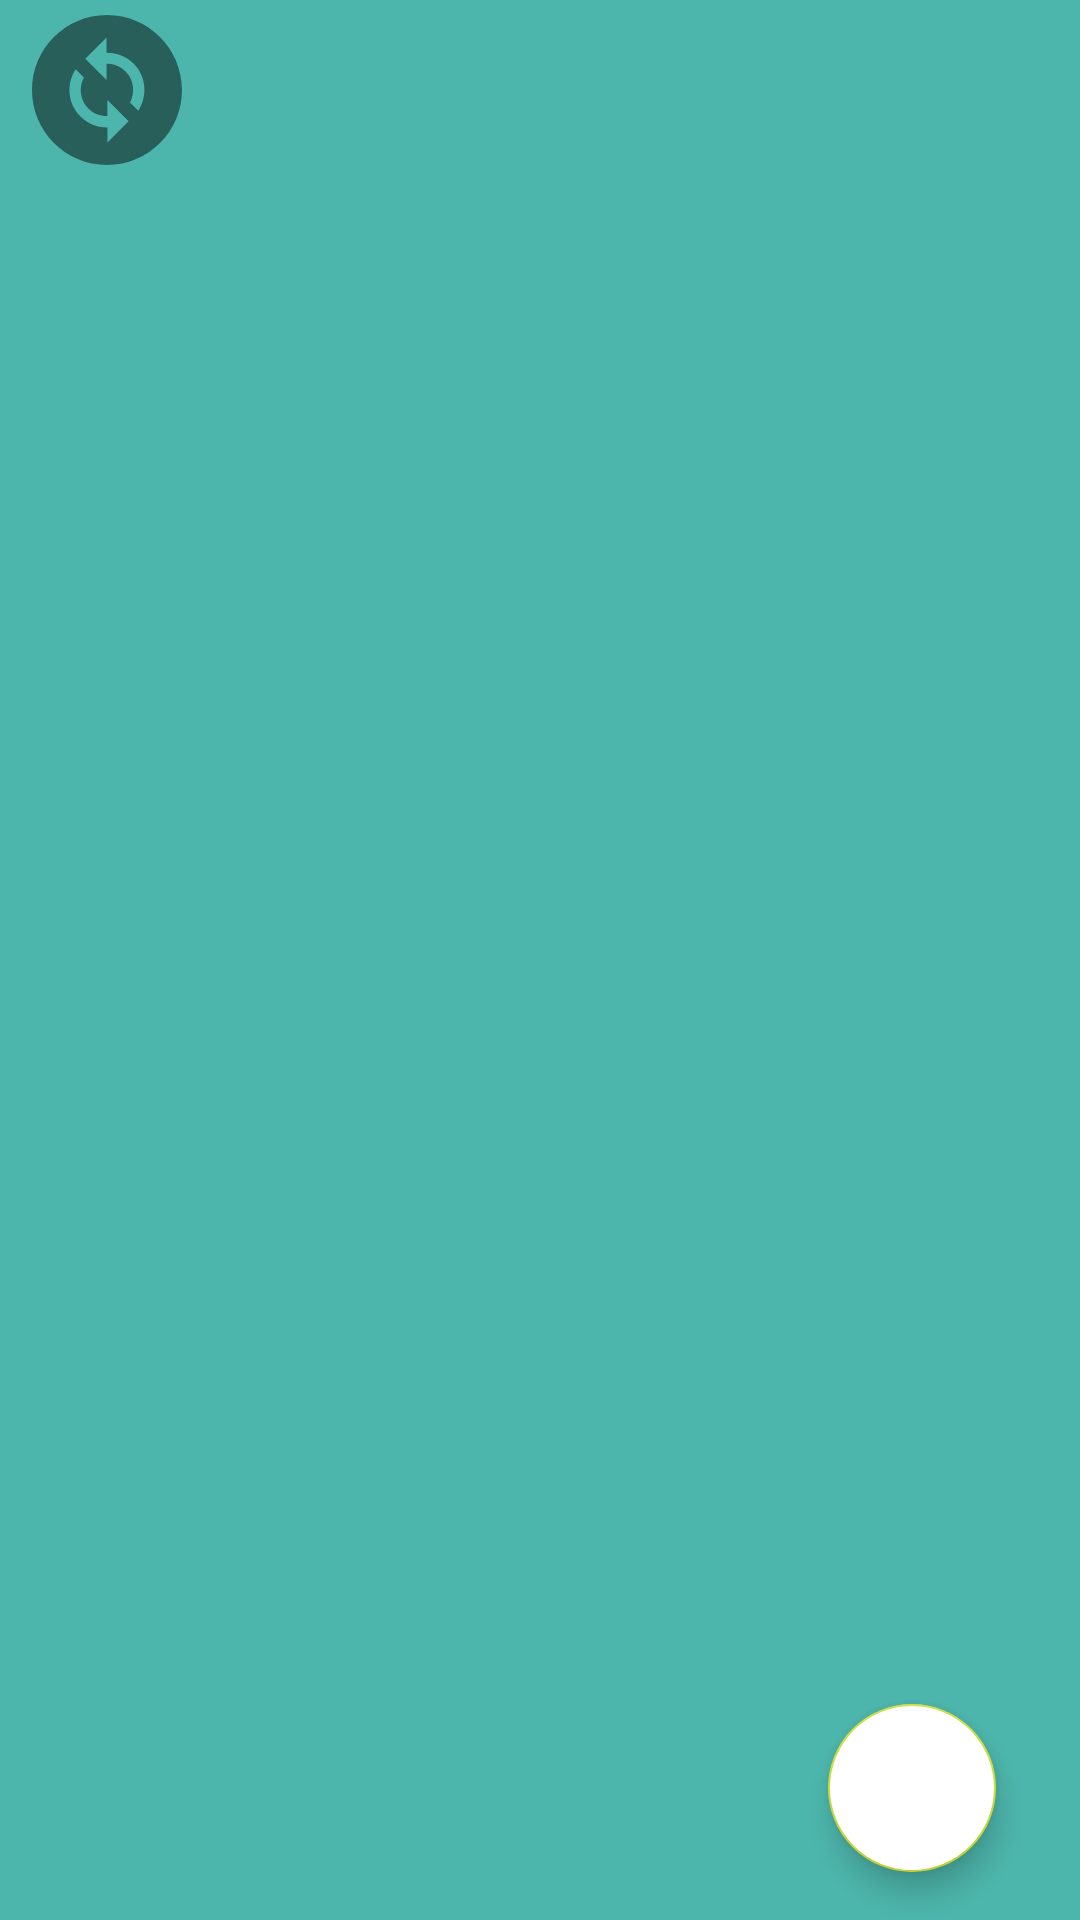

Point at icon controls on the screen. Image size 1080px x 1920px, points as [x,y].
Actualizar Listado: [107,90]
